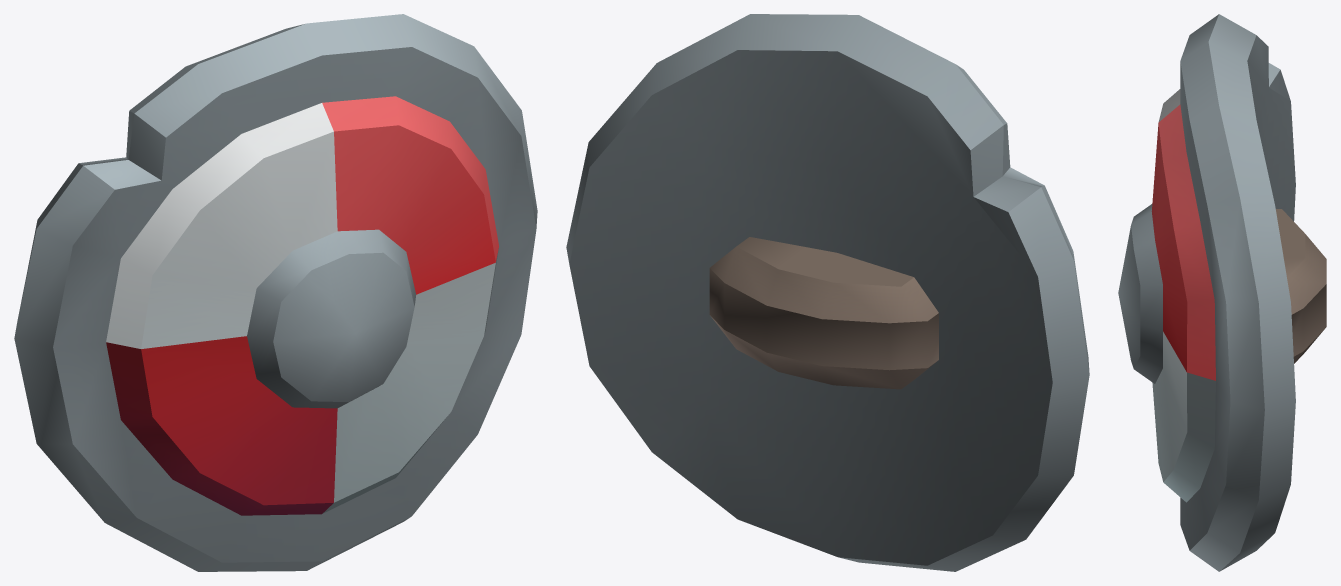
Rendered from knight_shield.glb.
3 views of the same model, side by side, from view 1: azimuth 30°, elevation 25°; view 2: azimuth 150°, elevation 25°; view 3: azimuth 270°, elevation 25° (orthographic). The views are drawn at different scales.
Parts seen in each view (by area): view 1: knight_shield; view 2: knight_shield; view 3: knight_shield.
Boxes of the visible parts, bbox=[...] form: knight_shield: bbox=[14, 14, 537, 571]; knight_shield: bbox=[566, 14, 1089, 571]; knight_shield: bbox=[1118, 14, 1326, 571].
Bounding box in the file's own units: 0.6 × 0.6 × 0.2257.
1 material, 1 textured.
